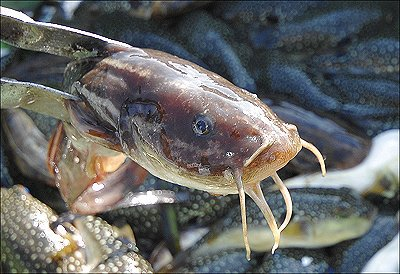gonzui: (58, 28, 325, 216)
